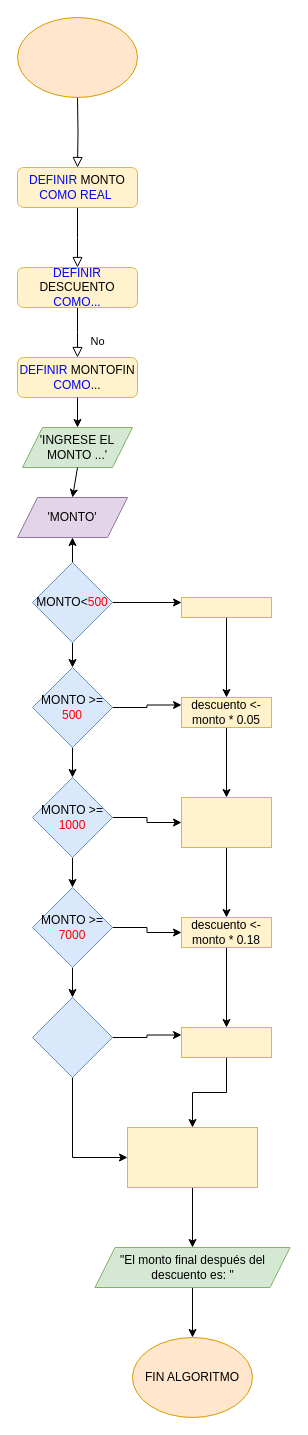
Image size: 308x1435. Some labels were removed from this diagram. Each missing label, with the box of its shape:
descuento <- 0: (180, 596, 272, 618)
descuento <- monto * 0.11: (180, 796, 272, 848)
descuento <- monto * 0.25: (180, 1026, 272, 1058)
INICIO CALCULO DE DESCUENTO: (16, 16, 138, 98)
MONTO > 15000: (32, 996, 112, 1078)
montoFinal <- monto - descuento: (126, 1126, 258, 1188)
